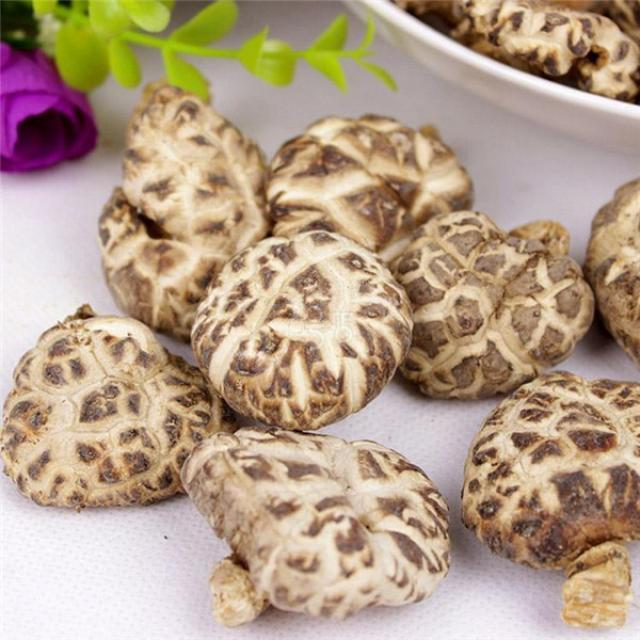Lentinus edodes: (184, 429, 451, 628), (468, 373, 640, 628), (195, 231, 413, 430), (6, 300, 208, 511), (101, 83, 268, 333), (386, 214, 595, 401), (269, 113, 475, 252)
